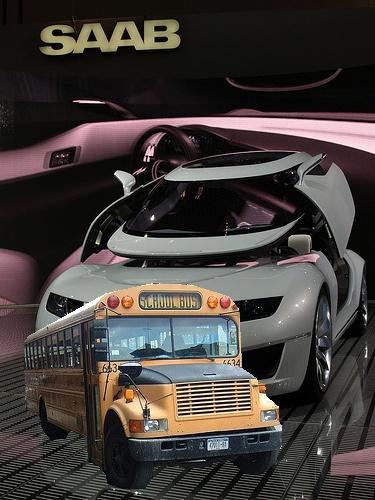tampered: (24, 284, 282, 489)
